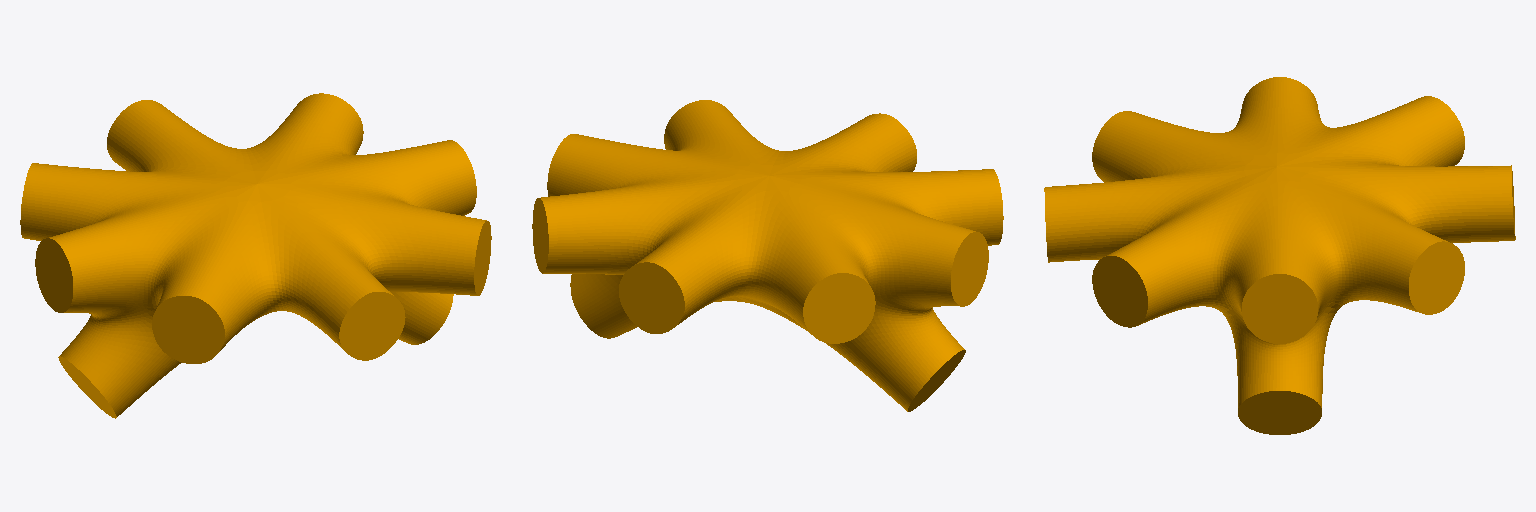
The robot description file, URDF, robot "object":
<robot name="object">
  <link name="object">
    <visual>
      <origin xyz="0 0 0"/>
      <geometry>
        <mesh filename="visual.obj" scale="1 1 1"/>
      </geometry>
    </visual>
    <collision>
      <origin xyz="0 0 0"/>
      <geometry>
        <mesh filename="visual.obj" scale="1 1 1"/>
      </geometry>
    </collision>
    <inertial>
      <mass value="0.05"/>
      <inertia ixx="3.8284497803755846e-05" iyy="5.732461650363004e-05" izz="8.159568622337486e-05" ixy="1.318883960217171e-09" ixz="-5.767517110888615e-08" iyz="-1.4087596223433705e-06"/>
    </inertial>
  </link>
</robot>

--- Render facts (derived) ---
Views: 3 orthographic renders of the robot side by side, from view 1: azimuth 30°, elevation 25°; view 2: azimuth 150°, elevation 25°; view 3: azimuth 270°, elevation 25°.
Robot: object — 1 links, 0 joints (none); root link object; default pose: all joints at 0.
Visible links, largest first — view 1: object; view 2: object; view 3: object.
Link boxes in pixels (box(x1,y1,x2,y2)): object: box(20, 93, 491, 418); object: box(532, 100, 1003, 411); object: box(1044, 77, 1515, 434).
Size in the robot's own frame: 0.1353 by 0.1358 by 0.0623 metres.
Meshes: 1 distinct files referenced, 1 mesh visuals loaded (1 OBJ).
